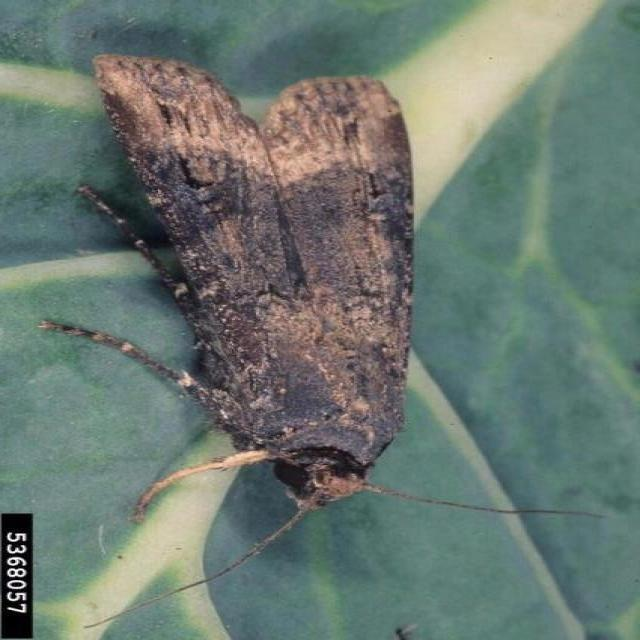black cutworm: (91, 56, 426, 534)
